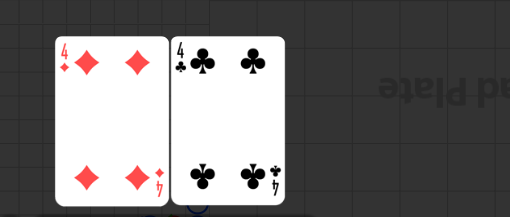4C: (269, 164, 283, 198)
4D: (59, 43, 71, 75)
